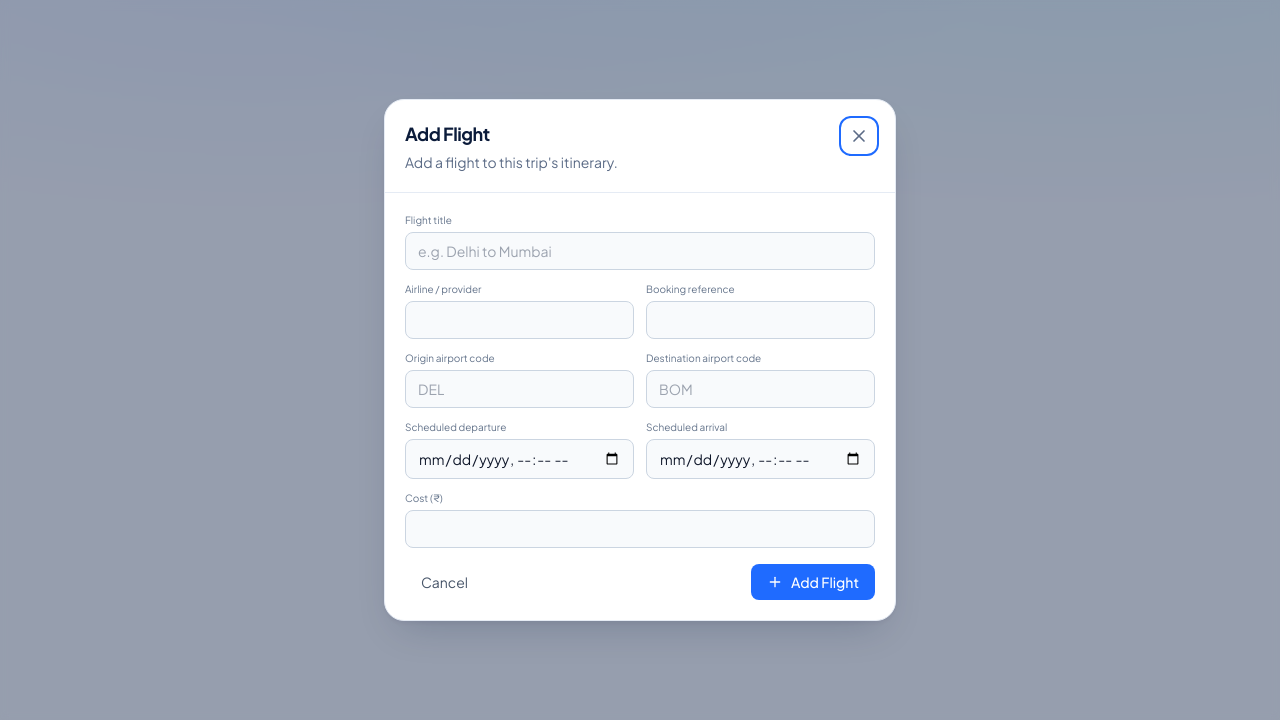
it: AddFlightModal › blocks submission and shows field errors when required fields are empty
Expected: the field labelled "Flight title" is shown, [405,232,875,270]
Click the button "Add Flight": x=813, y=582 [751,564,875,600]
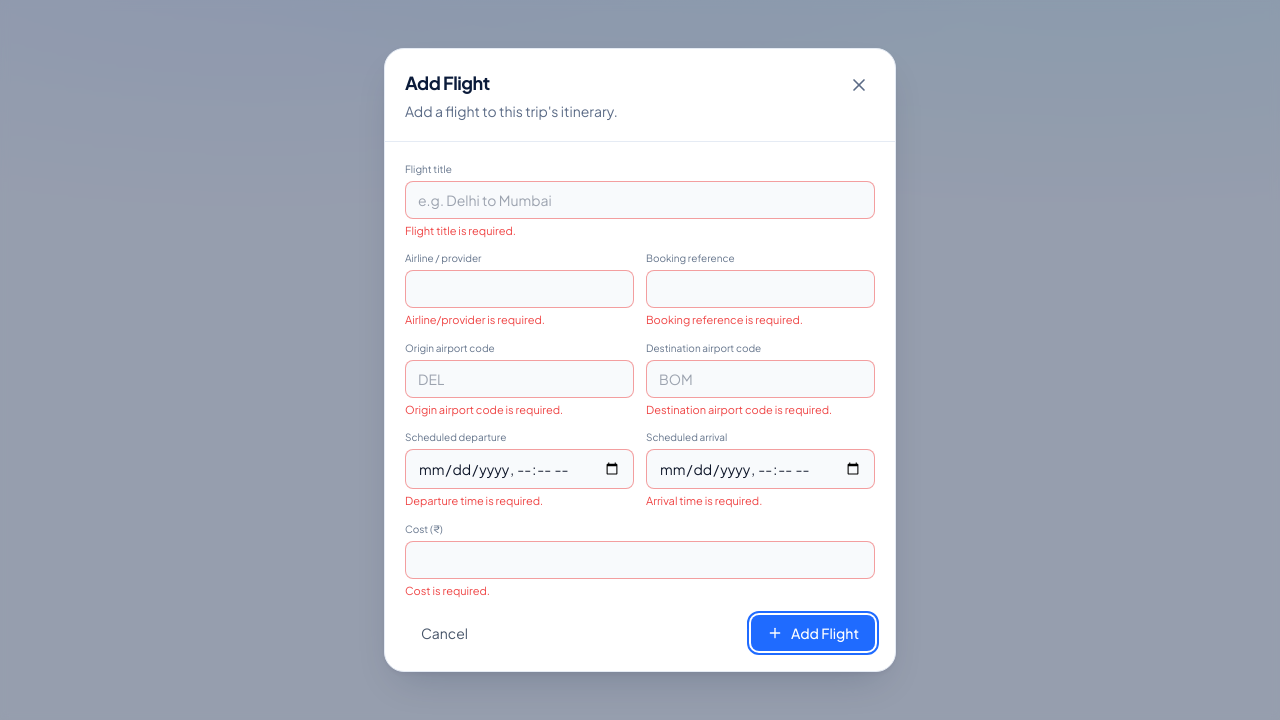
Expected: the text "Flight title is required." is shown, [405,224,516,237]
Expected: the text "Airline/provider is required." is shown, [405,313,545,326]
